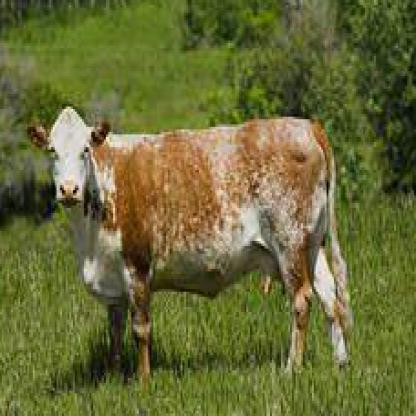cow: (27, 107, 352, 370)
